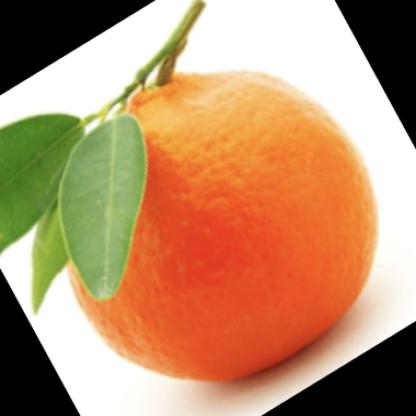fresh: (62, 71, 376, 382)
